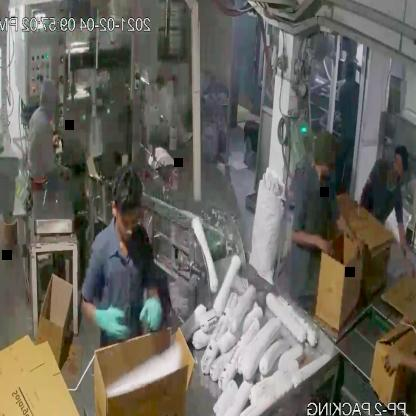glove: (75, 298, 130, 348), (130, 292, 172, 338)
no_glove: (372, 337, 416, 388), (282, 223, 340, 261), (392, 206, 413, 286), (330, 210, 366, 254)
